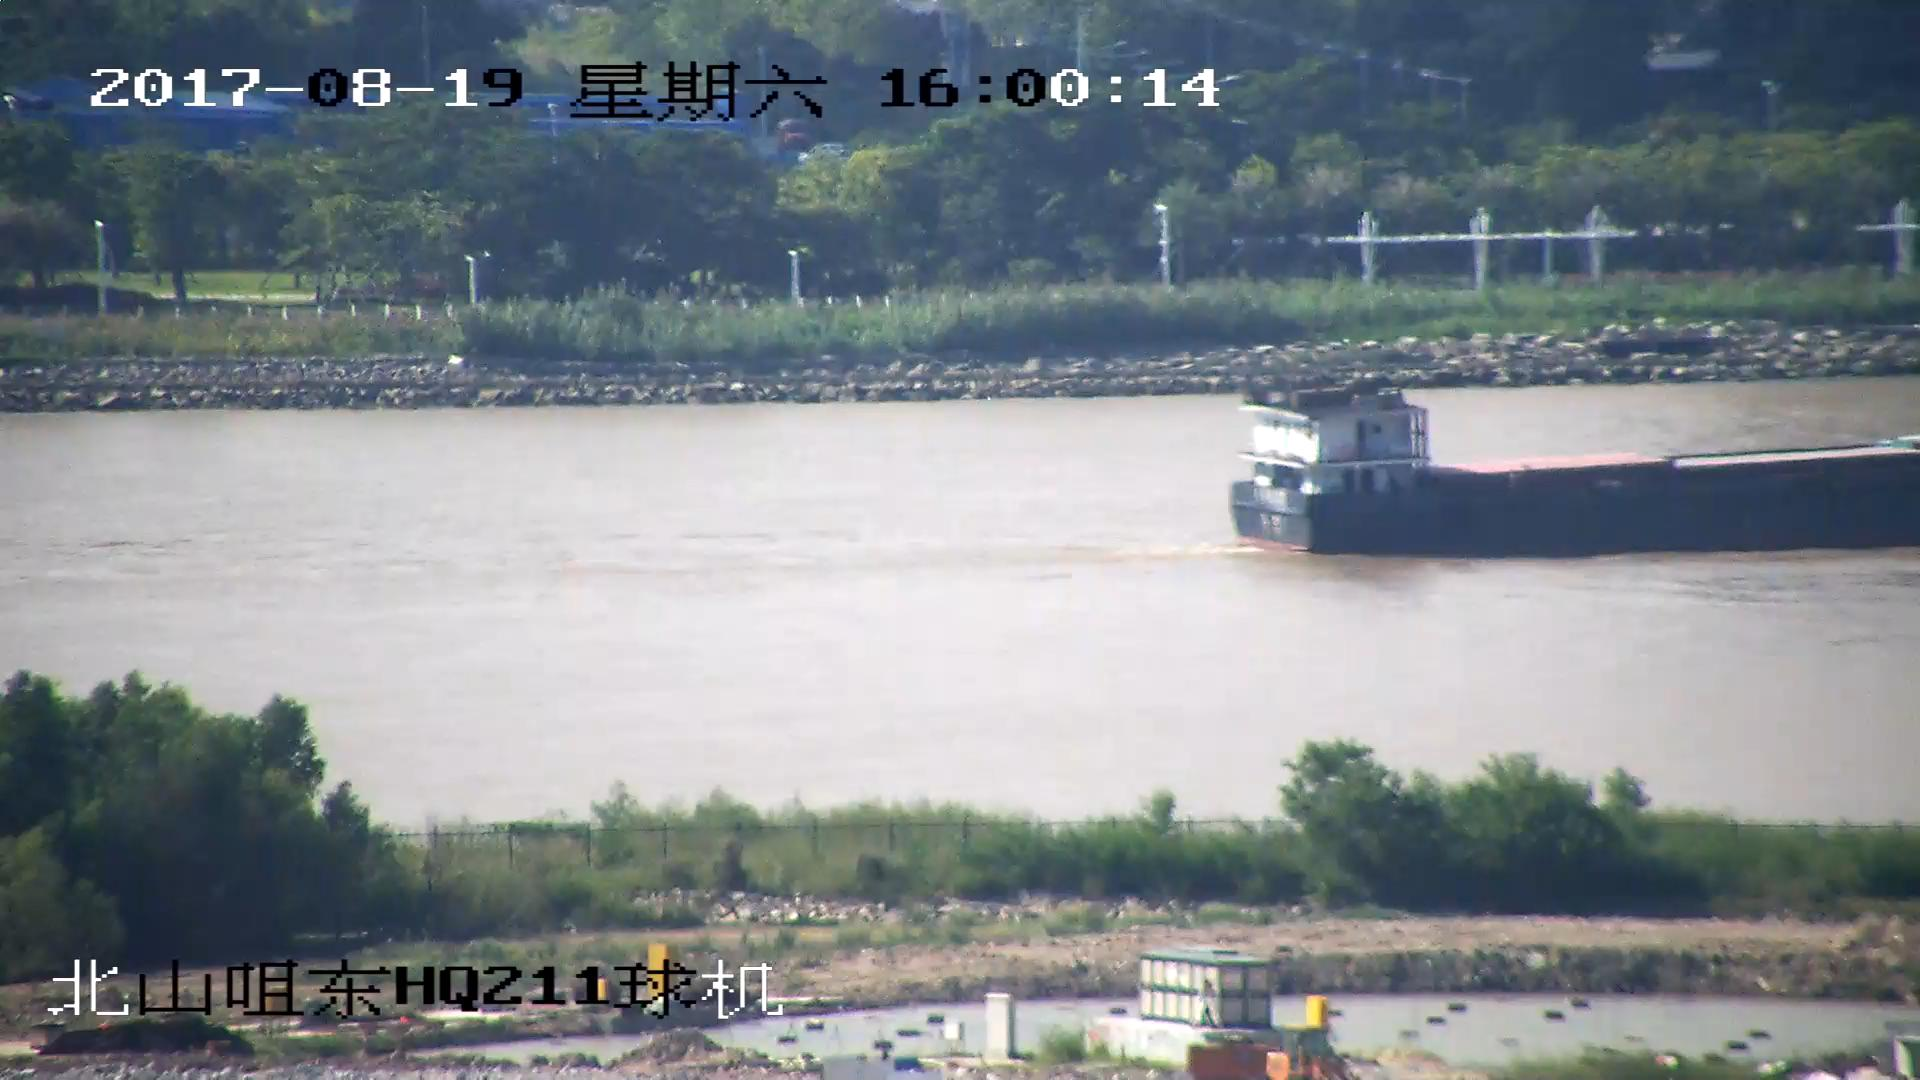general cargo ship: (1226, 382, 1920, 555)
